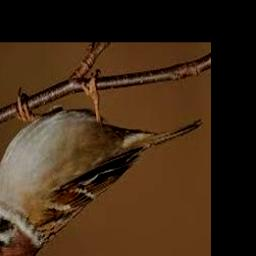Sparrow: (0, 70, 203, 256)
